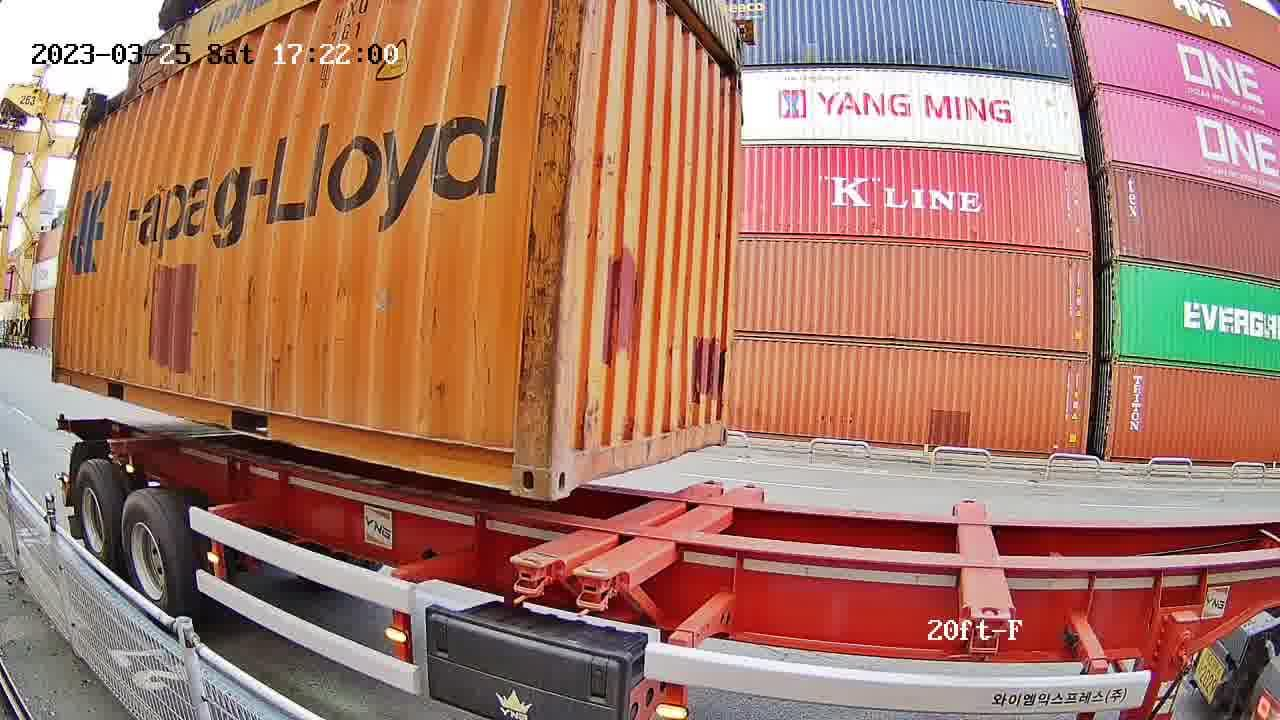Chassis: (511, 482, 723, 567), (575, 486, 762, 578)
Cone: (567, 567, 621, 619), (507, 553, 558, 607)
Hole_L: (549, 424, 600, 501)
Hole_R: (478, 427, 550, 500), (702, 406, 728, 447)
Tire: (121, 491, 183, 619), (77, 462, 118, 569)
